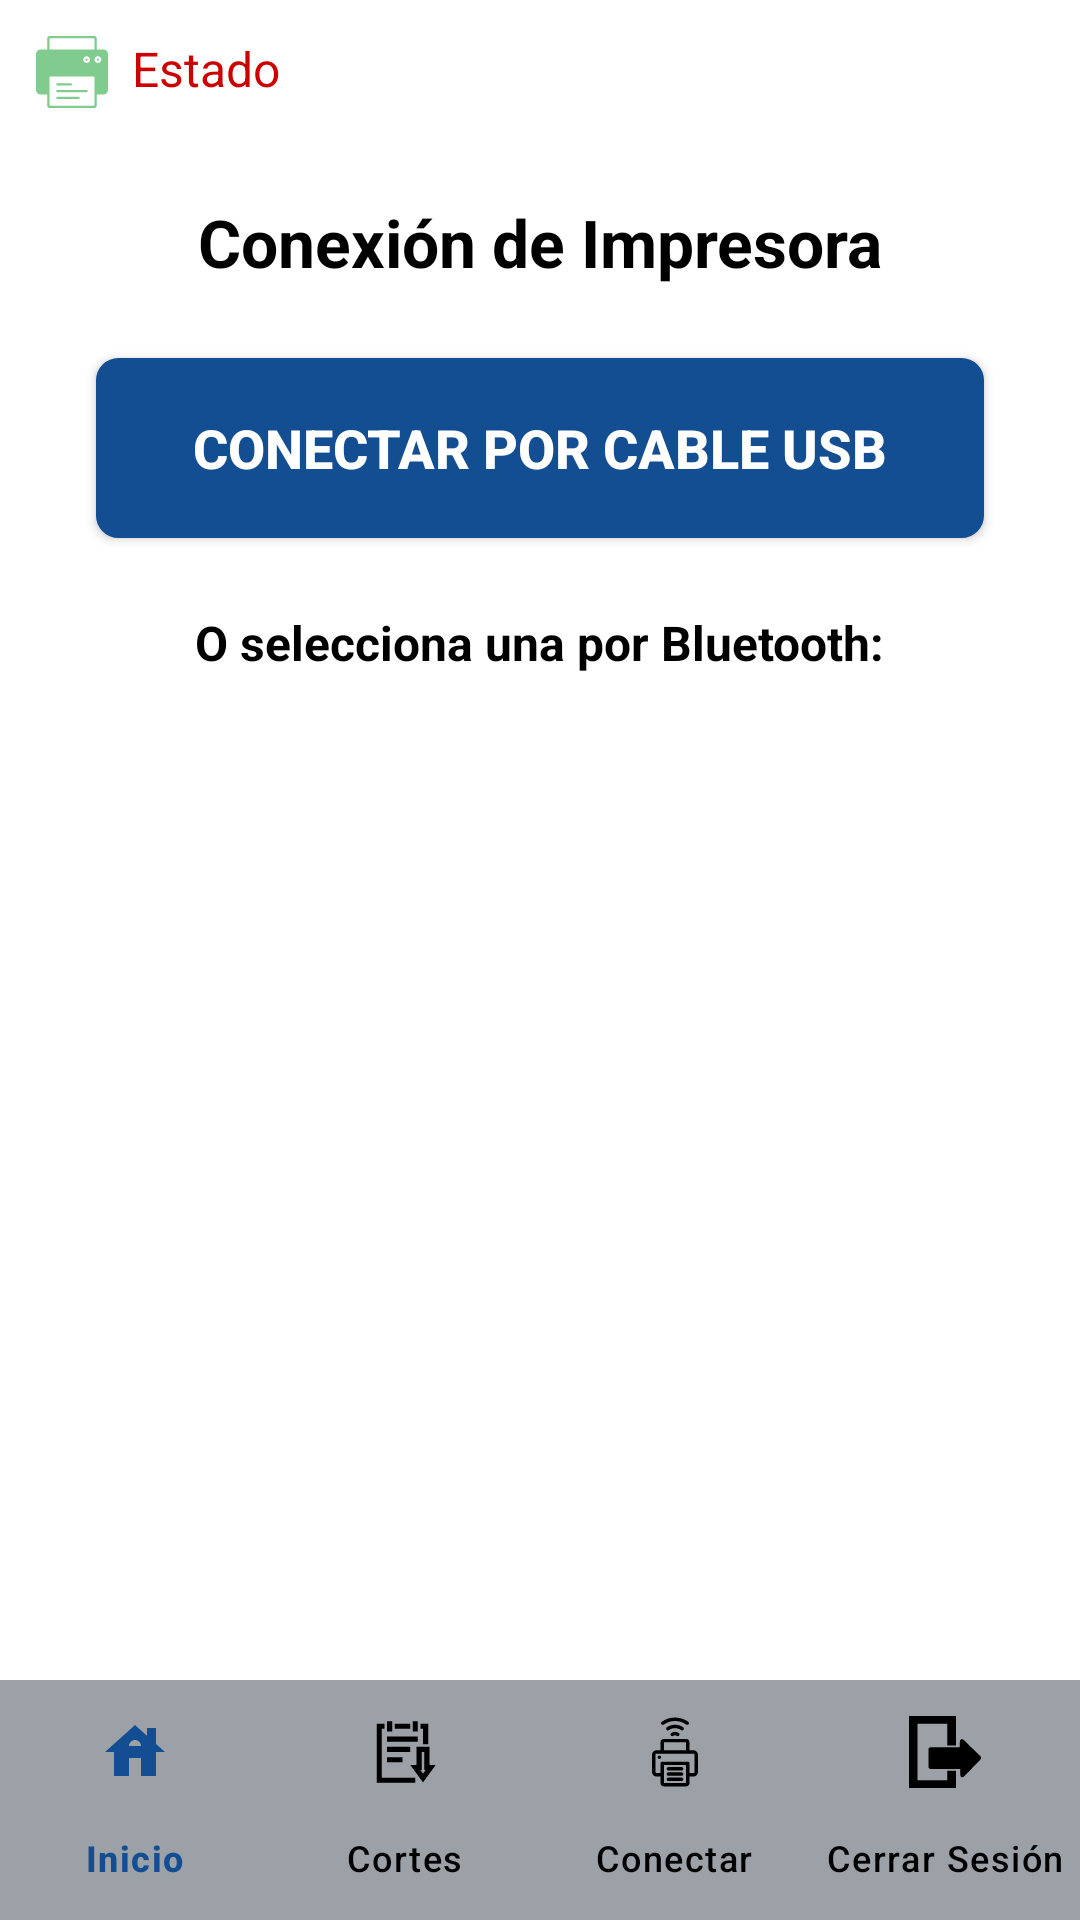

Icons on this 1080w x 1920h Android screen, each with its box as [x1,y1,x2,y2]:
print conected: [36,36,108,108]
